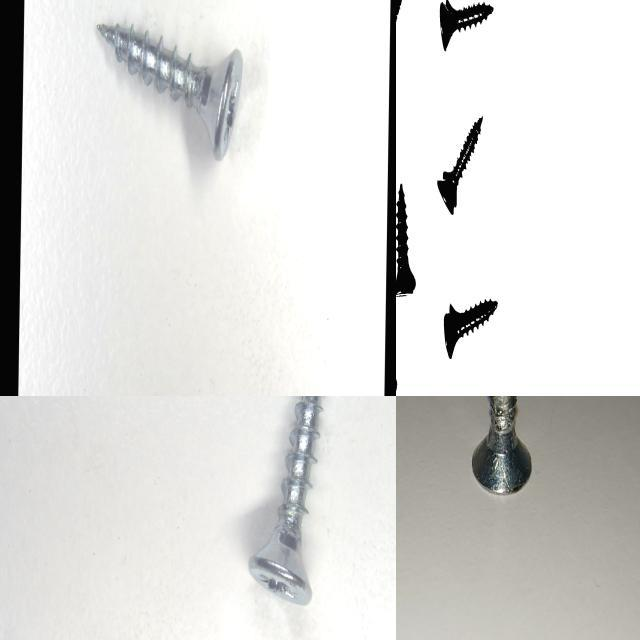Screw: (97, 23, 243, 159), (249, 396, 323, 605), (473, 396, 532, 494), (437, 115, 483, 213), (443, 298, 497, 358), (439, 0, 493, 49), (396, 182, 415, 297)
